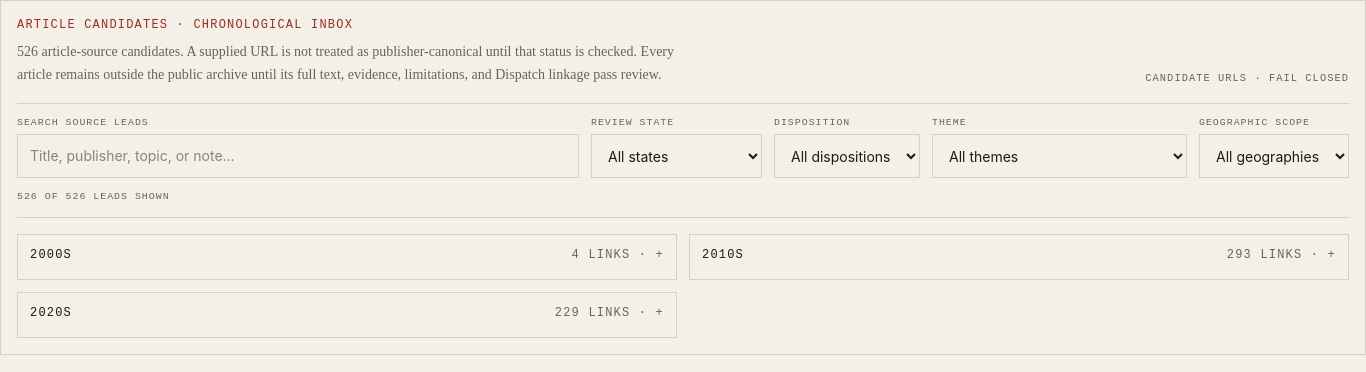
SourceLeadInbox › filters a large inbox without changing its publication boundary
The image size is (1366, 372).
In the search field labelled "Search source leads": (298, 156) [17,134,579,178], type "no-source-can-match-this"
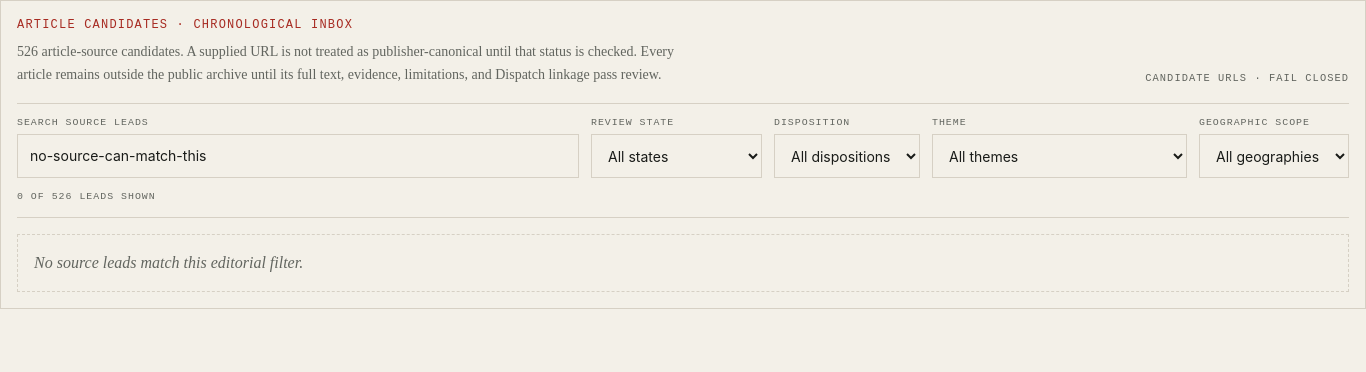
Expected: the text "0 of 526 leads shown" is shown, [17,191,156,202]
Expected: the text "No source leads match this editorial filter." is shown, [17,234,1349,292]
